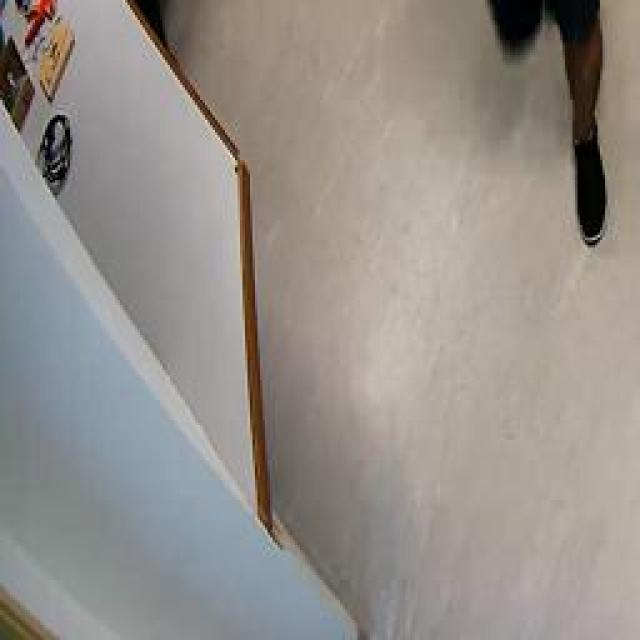Guns: (425, 0, 475, 5)
